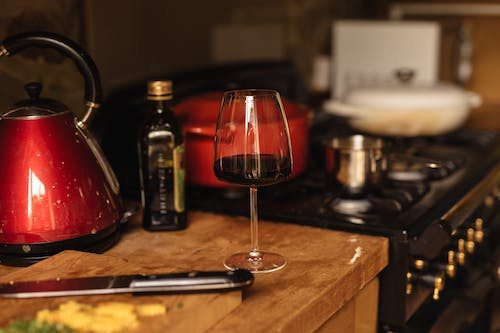alcohol: (210, 86, 293, 273)
knife: (0, 266, 256, 301)
